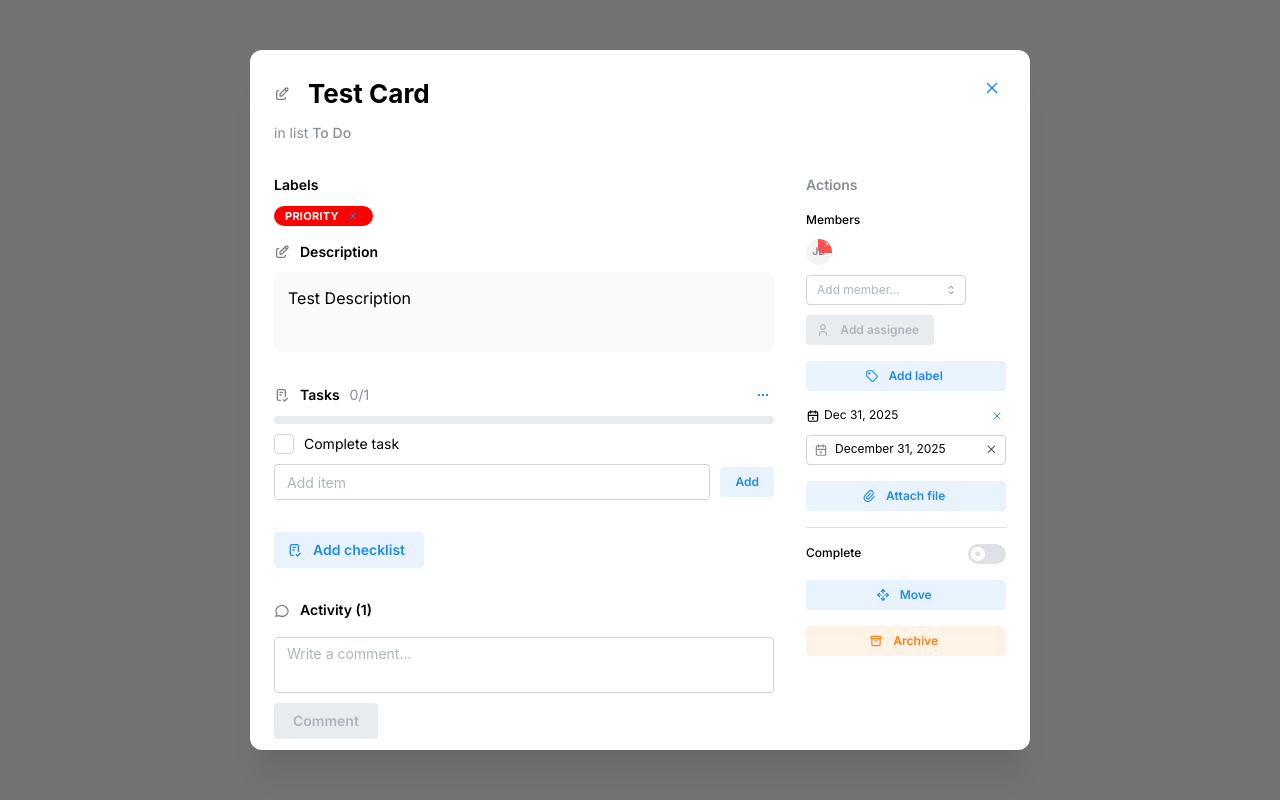
it: CardModal Component › Auto-save Functionality › should auto-save changes after edit
The image size is (1280, 800).
Click the heading "Test Card".
click(369, 94)  # box top-left (300, 74), bottom-right (438, 113)
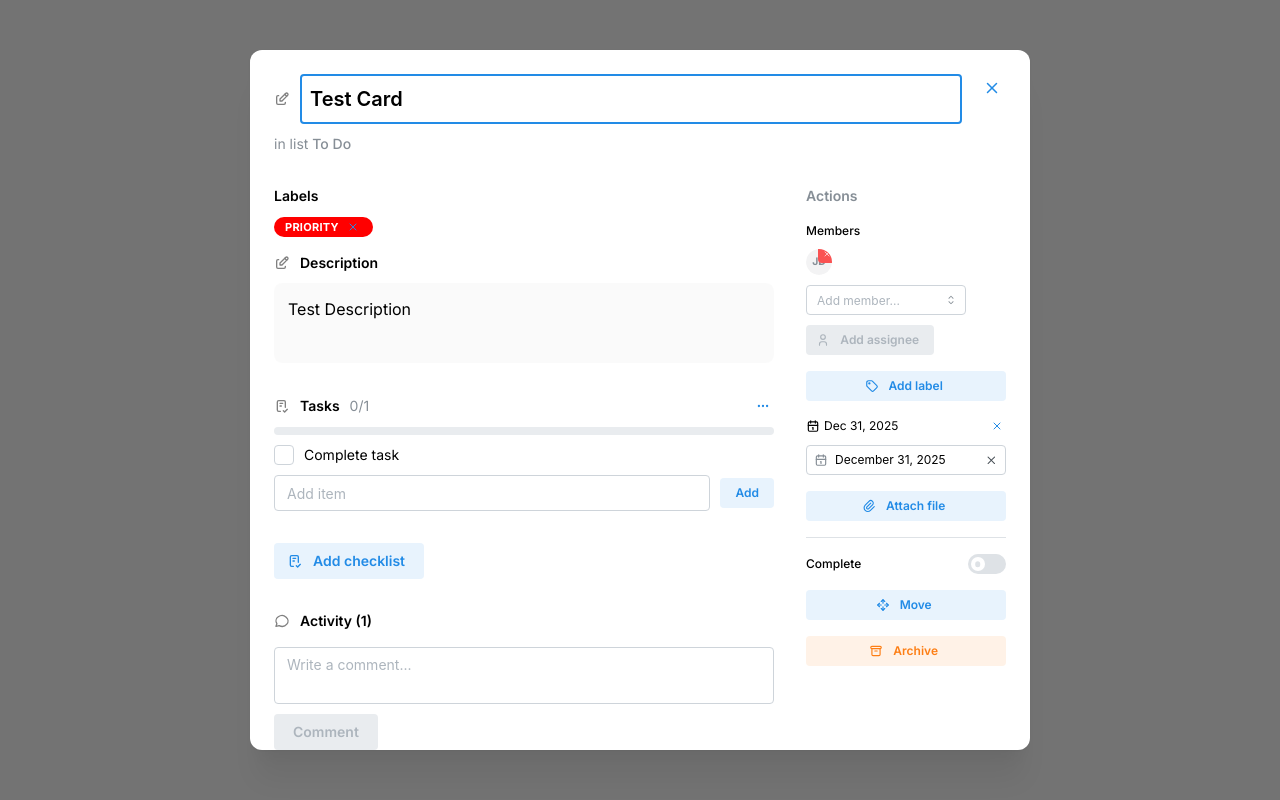
Replace the text in the field showing "Test Card" with "Auto-saved Title" at point(631, 99), box top-left (300, 74), bottom-right (962, 124)
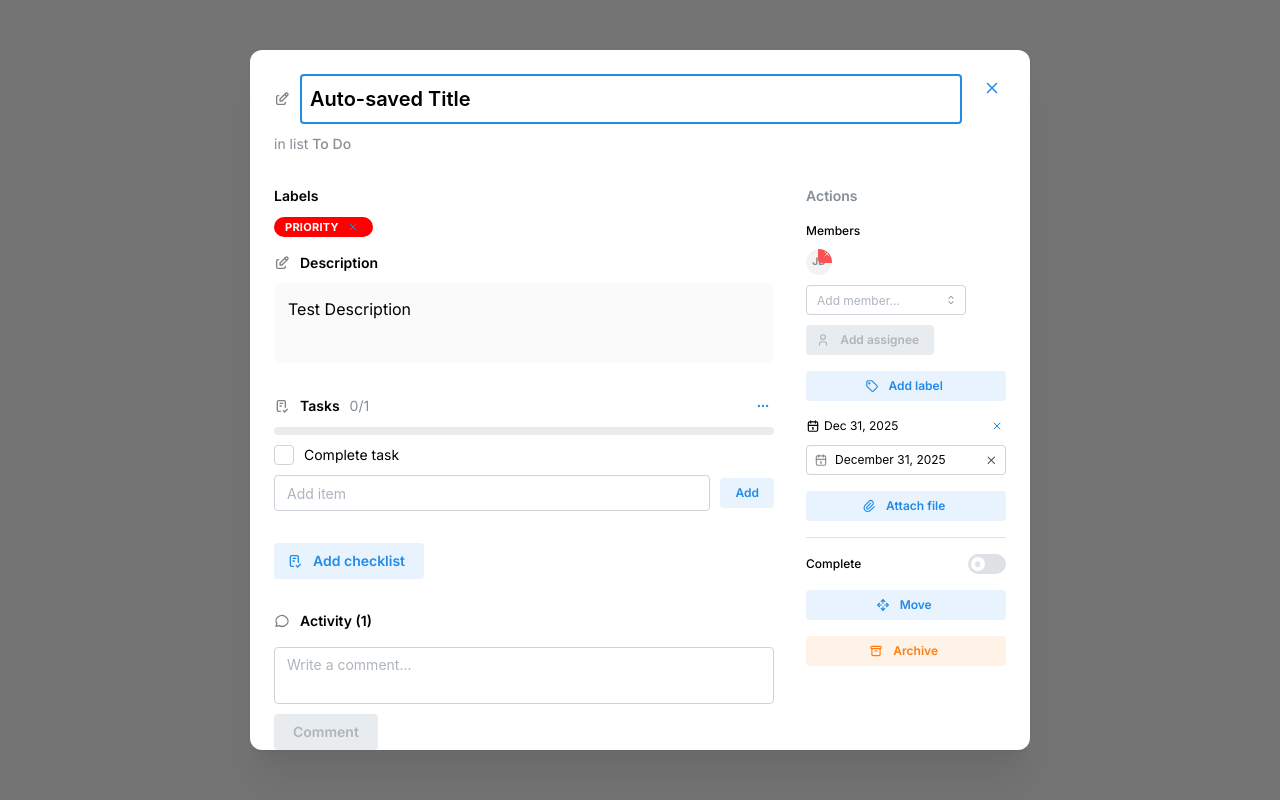
Leave the field showing "Test Card", box top-left (300, 74), bottom-right (962, 124)
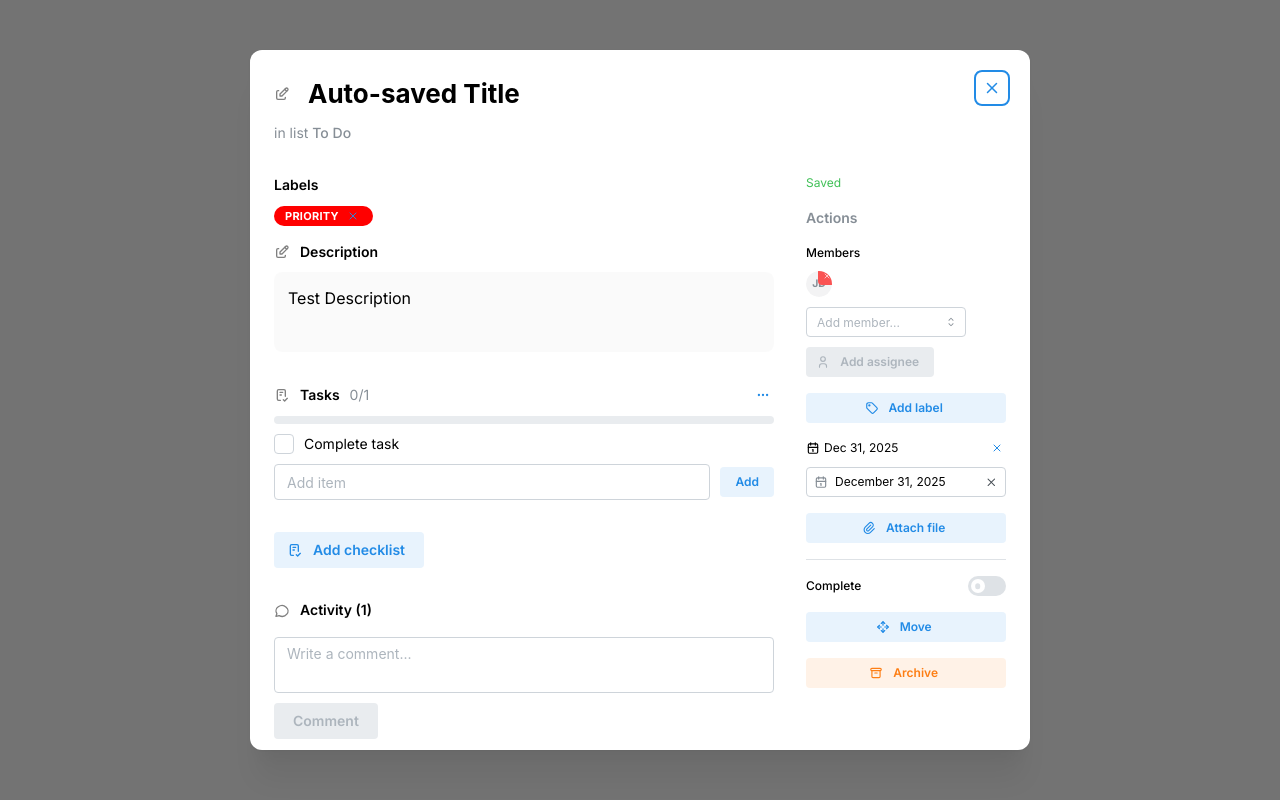
Expected: the text "Saved" is shown, top-left (806, 176), bottom-right (841, 190)
